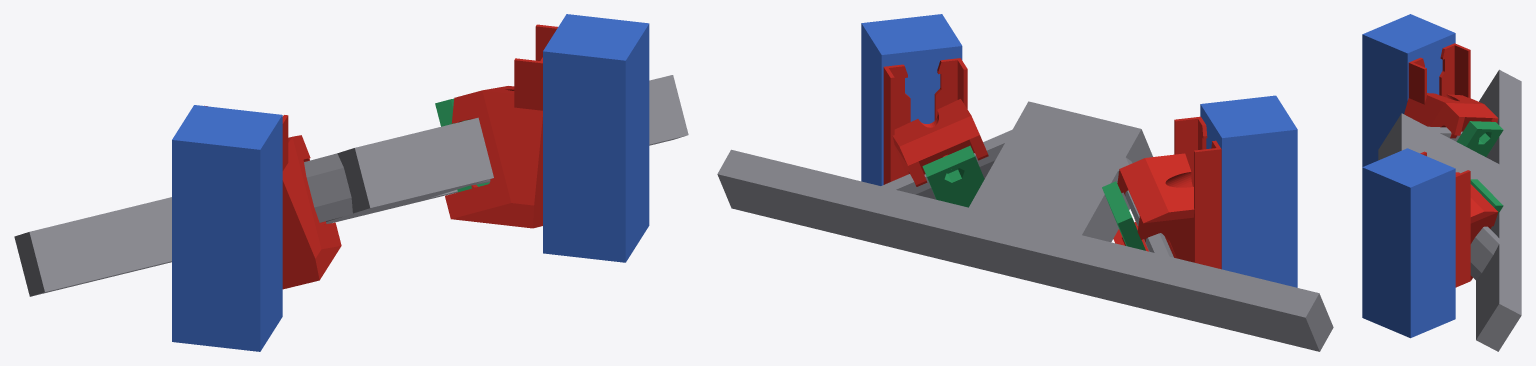
The model's file is assembly_m10.obj.
3 views of the same model, side by side, from view 1: azimuth 30°, elevation 25°; view 2: azimuth 150°, elevation 25°; view 3: azimuth 270°, elevation 25° (orthographic). The views are drawn at different scales.
Parts seen in each view (by area): view 1: left_light_placeholder, right_light_placeholder, hanger_schematic, right_saddle, left_saddle; view 2: hanger_schematic, left_light_placeholder, left_saddle, right_light_placeholder, right_saddle, right_keeper, left_keeper; view 3: right_light_placeholder, hanger_schematic, left_light_placeholder, left_saddle, right_saddle, left_keeper, right_keeper.
Boxes of the visible parts, x1,y1,x2,y2 form: left_light_placeholder: (172, 105, 282, 351); right_light_placeholder: (543, 14, 649, 262); hanger_schematic: (14, 75, 688, 296); right_saddle: (445, 24, 557, 228); left_saddle: (204, 105, 341, 289); hanger_schematic: (717, 101, 1333, 351); left_light_placeholder: (1200, 95, 1297, 287); left_saddle: (1113, 116, 1221, 269); right_light_placeholder: (861, 14, 962, 185); right_saddle: (883, 58, 988, 186); right_keeper: (922, 145, 984, 207); left_keeper: (1102, 181, 1145, 250); right_light_placeholder: (1362, 148, 1455, 338); hanger_schematic: (1378, 69, 1521, 351); left_light_placeholder: (1362, 14, 1455, 166); left_saddle: (1404, 43, 1498, 138); right_saddle: (1420, 151, 1498, 287); left_keeper: (1456, 121, 1503, 156); right_keeper: (1470, 179, 1503, 215).
Bounding box in the file's own units: 260 × 78 × 74.77.
